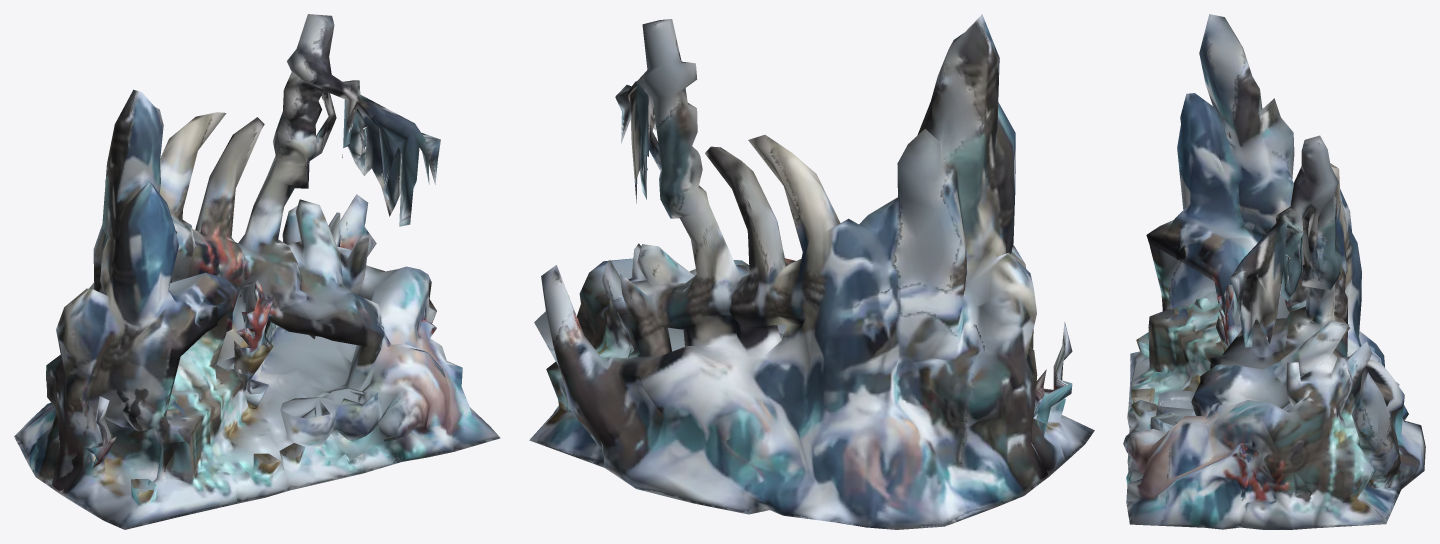
File: SM_Tripo_FrostSeaPearlHoard.glb
3 renders of one model, left to right at view 1: azimuth 30°, elevation 25°; view 2: azimuth 150°, elevation 25°; view 3: azimuth 270°, elevation 25°, orthographic. The views are drawn at different scales.
Visible parts, largest first — view 1: SM_Tripo_FrostSeaPearlHoard_LOD0; view 2: SM_Tripo_FrostSeaPearlHoard_LOD0; view 3: SM_Tripo_FrostSeaPearlHoard_LOD0.
Boxes of the visible parts, left/top/right/bottom form: SM_Tripo_FrostSeaPearlHoard_LOD0: left=14, top=14, right=500, bottom=529; SM_Tripo_FrostSeaPearlHoard_LOD0: left=529, top=14, right=1094, bottom=529; SM_Tripo_FrostSeaPearlHoard_LOD0: left=1123, top=14, right=1425, bottom=529.
Bounding box in the file's own units: 1.83 × 1.72 × 1.29.
Materials: 1 (1 with a texture image).
